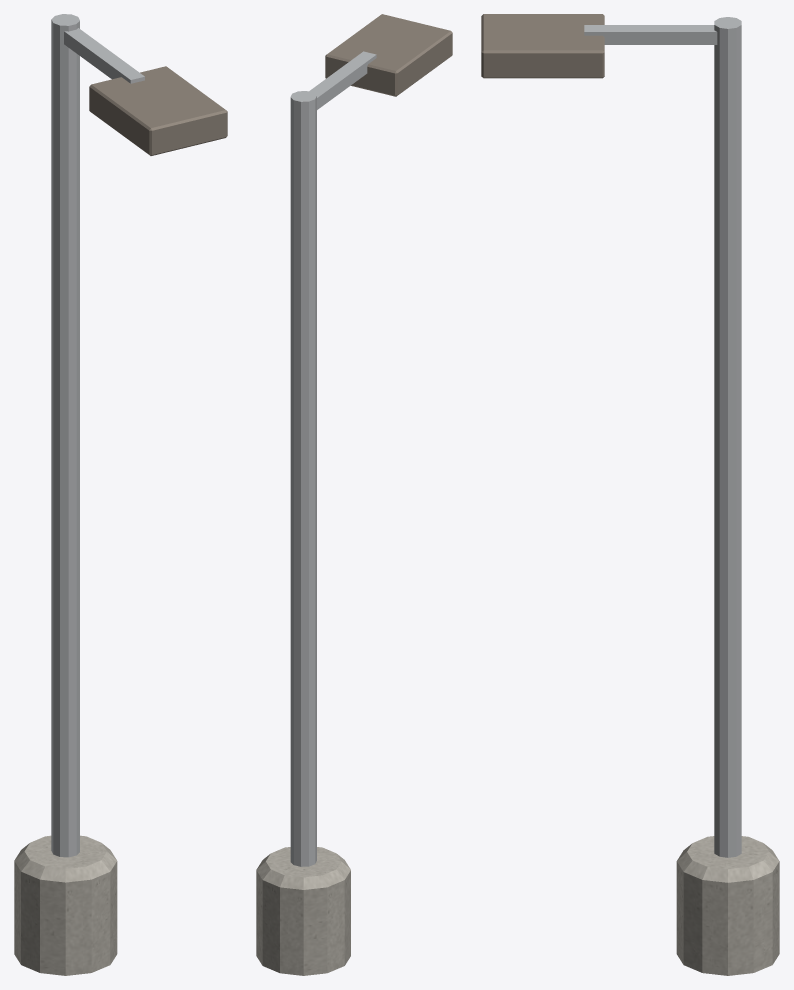
Rendered from pole_light.glb.
3 views of the same model, side by side, from view 1: azimuth 30°, elevation 25°; view 2: azimuth 150°, elevation 25°; view 3: azimuth 270°, elevation 25° (orthographic). The views are drawn at different scales.
Parts seen in each view (by area): view 1: pole_light_steel, pole_light_concrete, pole_light_alu; view 2: pole_light_steel, pole_light_concrete, pole_light_alu; view 3: pole_light_steel, pole_light_concrete, pole_light_alu.
Boxes of the visible parts, box(x1,y1,x2,y2) form: pole_light_steel: box(51, 14, 144, 857); pole_light_concrete: box(14, 835, 117, 975); pole_light_alu: box(89, 66, 227, 155); pole_light_steel: box(290, 51, 376, 866); pole_light_concrete: box(256, 847, 350, 975); pole_light_alu: box(325, 14, 452, 96); pole_light_steel: box(584, 17, 741, 857); pole_light_concrete: box(676, 836, 779, 975); pole_light_alu: box(481, 14, 604, 78).
Size of the model in its own units: 0.5 by 5 by 1.45.
Materials: 4 (1 with a texture image).
